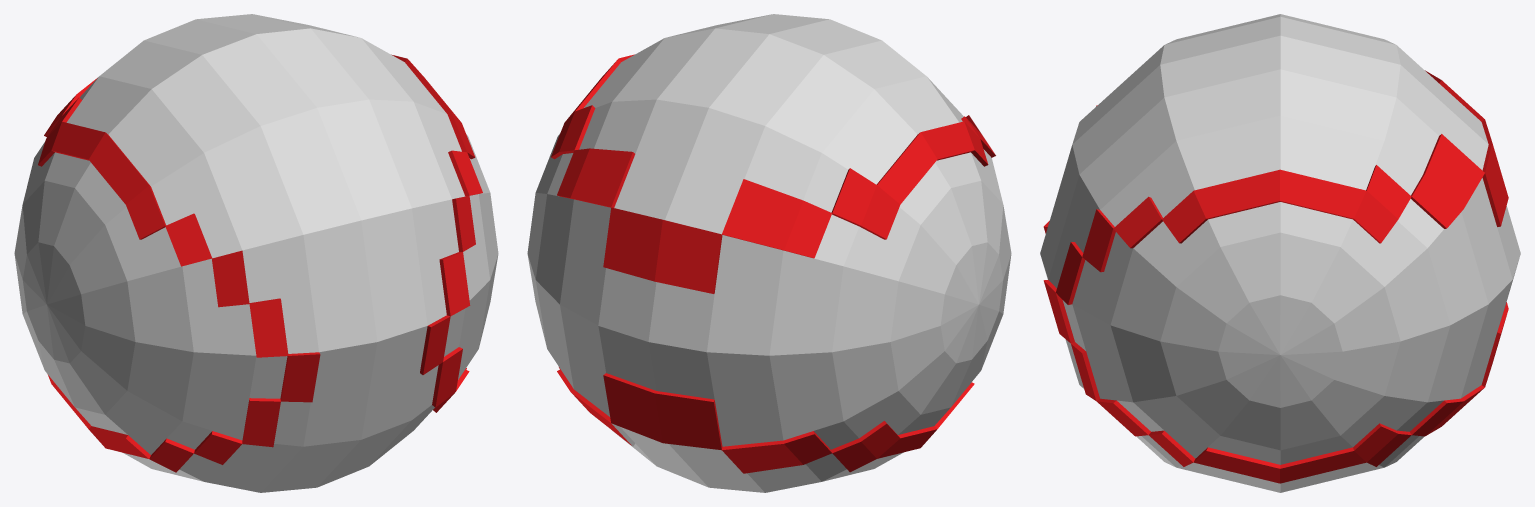
The model's file is baseball.fbx.
3 renders of one model, left to right at view 1: azimuth 30°, elevation 25°; view 2: azimuth 150°, elevation 25°; view 3: azimuth 270°, elevation 25°, orthographic.
Visible parts, largest first — view 1: Sphere; view 2: Sphere; view 3: Sphere.
Part boxes in pixels (bbox=[...]): Sphere: bbox=[14, 14, 498, 492]; Sphere: bbox=[527, 14, 1011, 492]; Sphere: bbox=[1040, 14, 1520, 492].
Bounding box in the file's own units: 200 × 200 × 200.
